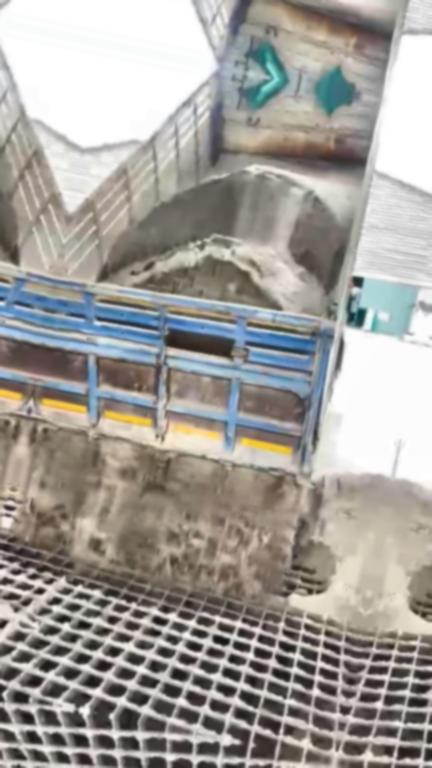sand: (21, 428, 391, 599), (107, 165, 364, 320)
